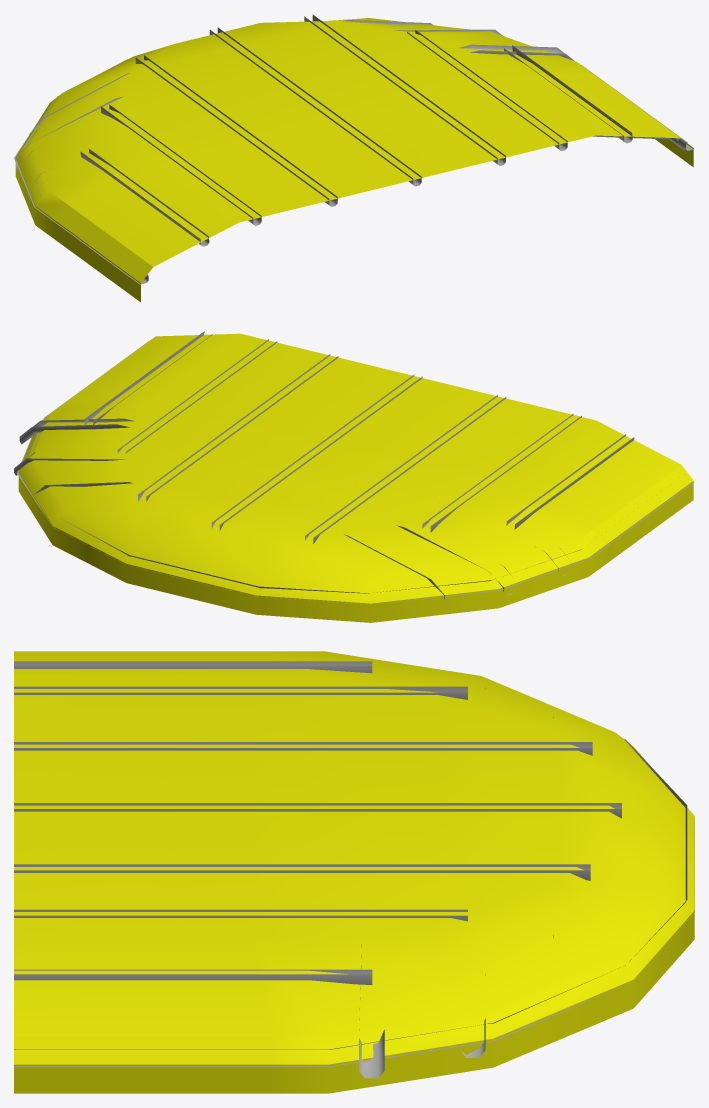
The model's file is SM_Roof.fbx.
3 renders of one model, top to bottom at view 1: azimuth 30°, elevation 25°; view 2: azimuth 150°, elevation 25°; view 3: azimuth 270°, elevation 25°, orthographic. The views are drawn at different scales.
Parts seen in each view (by area): view 1: pCube184; view 2: pCube184; view 3: pCube184.
Part boxes in pixels (box(x1,y1,x2,y2)): pCube184: box(14, 14, 694, 302); pCube184: box(14, 331, 694, 622); pCube184: box(14, 651, 694, 1093).
Bounding box in the file's own units: 8215 × 816 × 5846.
